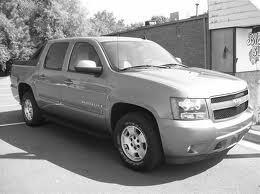car: (11, 35, 256, 173)
